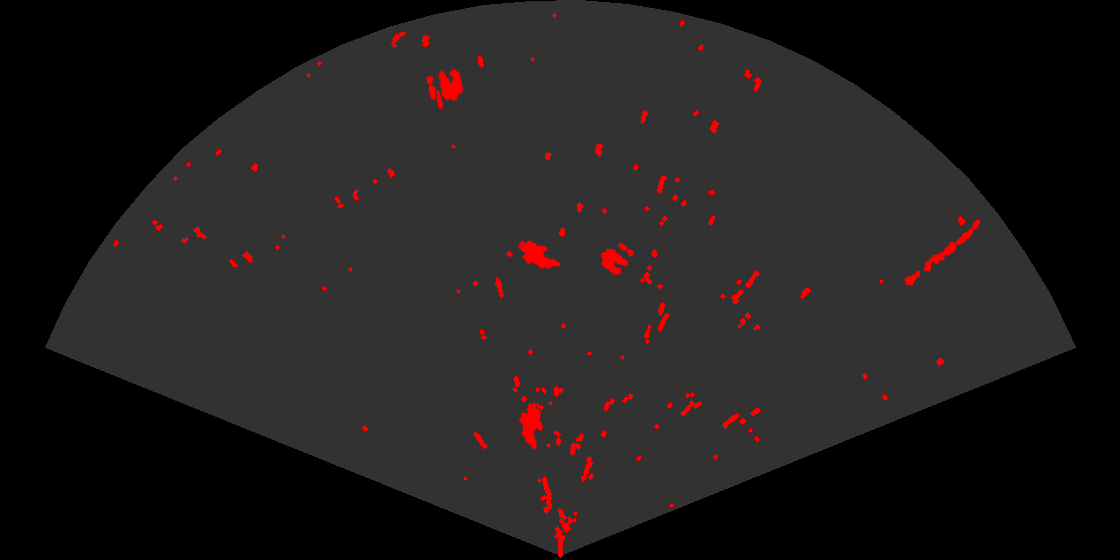AUV: (516, 239, 562, 270), (517, 401, 544, 451)
ball: (425, 67, 465, 103), (599, 241, 636, 276)
chain: (903, 218, 982, 288)
